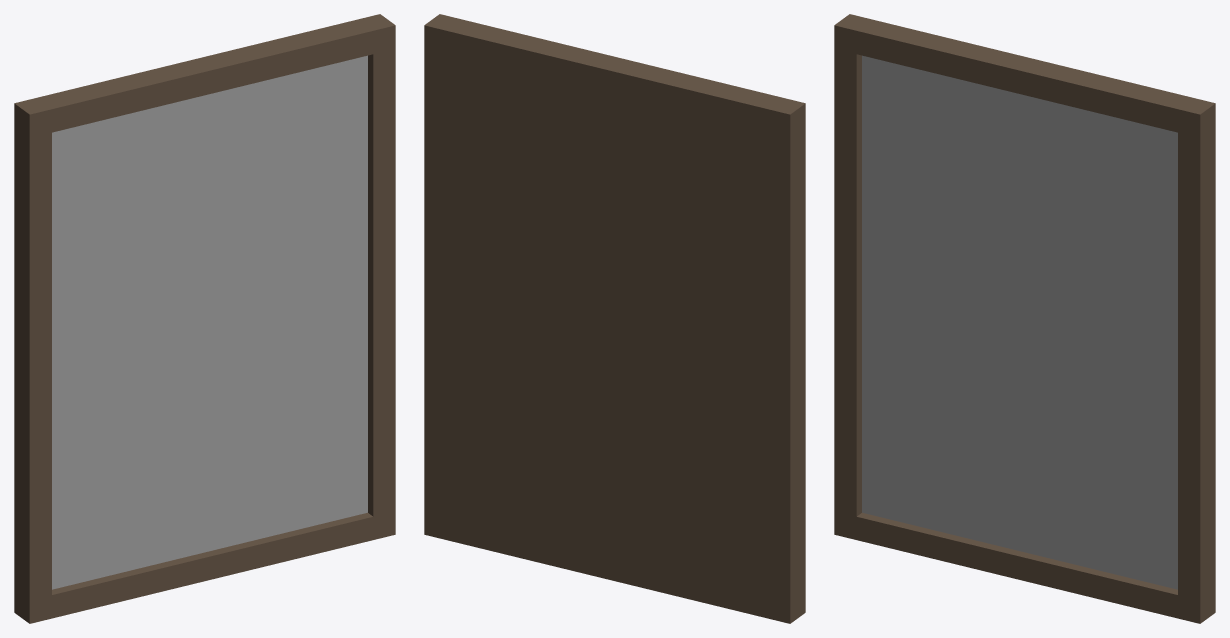
The model's file is Mirror.fbx.
3 views of the same model, side by side, from view 1: azimuth 30°, elevation 25°; view 2: azimuth 150°, elevation 25°; view 3: azimuth 330°, elevation 25° (orthographic).
Parts seen in each view (by area): view 1: pCube1; view 2: pCube1; view 3: pCube1.
Boxes of the visible parts, <box> form: pCube1: <box>14,14,395,623</box>; pCube1: <box>424,14,805,623</box>; pCube1: <box>834,14,1215,623</box>.
Bounding box in the file's own units: 1.02 × 1.36 × 0.0751.
